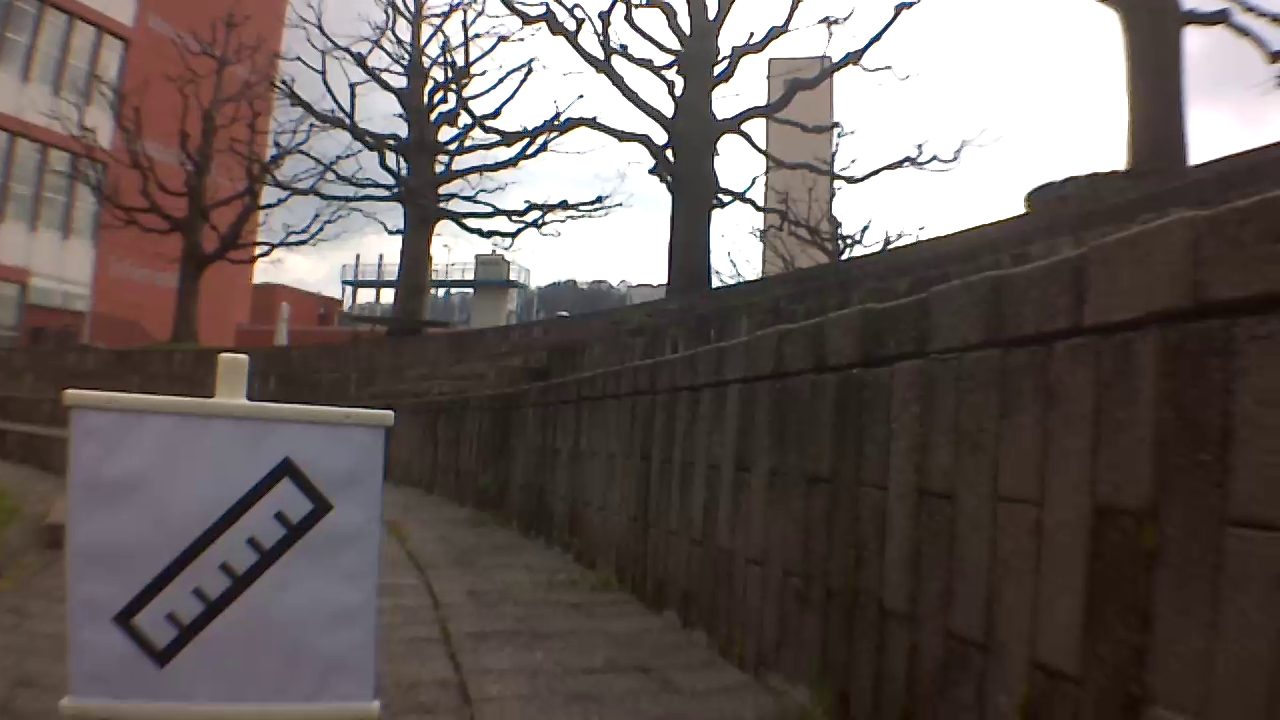ruler: (111, 456, 342, 672)
